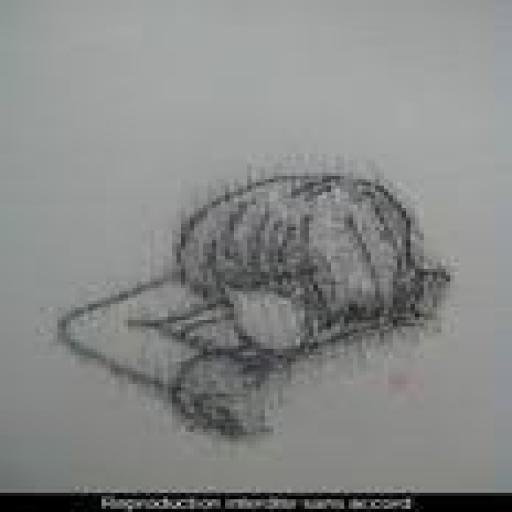person: (49, 147, 457, 464)
